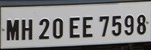character: (5, 18, 19, 41), (20, 18, 33, 40), (81, 16, 94, 38), (98, 15, 110, 38), (38, 17, 50, 39), (51, 17, 63, 39), (69, 16, 81, 38), (111, 14, 122, 37), (123, 14, 135, 35), (136, 14, 147, 35)
